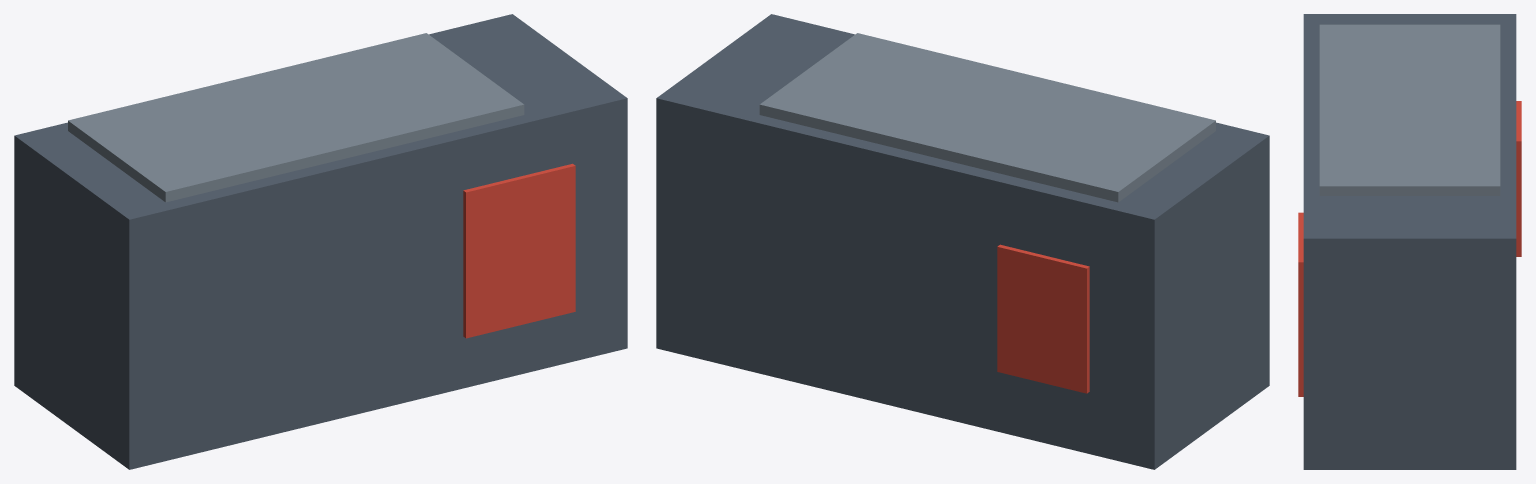
3 views of the same model, side by side, from view 1: azimuth 30°, elevation 25°; view 2: azimuth 150°, elevation 25°; view 3: azimuth 270°, elevation 25° (orthographic). The views are drawn at different scales.
Parts seen in each view (by area): view 1: GEO_module_core_shell_01_LOD0; view 2: GEO_module_core_shell_01_LOD0; view 3: GEO_module_core_shell_01_LOD0.
Part boxes in pixels (box(x1,y1,x2,y2)): GEO_module_core_shell_01_LOD0: box(14, 14, 627, 469); GEO_module_core_shell_01_LOD0: box(656, 14, 1269, 469); GEO_module_core_shell_01_LOD0: box(1298, 14, 1521, 469).
Bounding box in the file's own units: 0.1 × 0.051 × 0.042.
